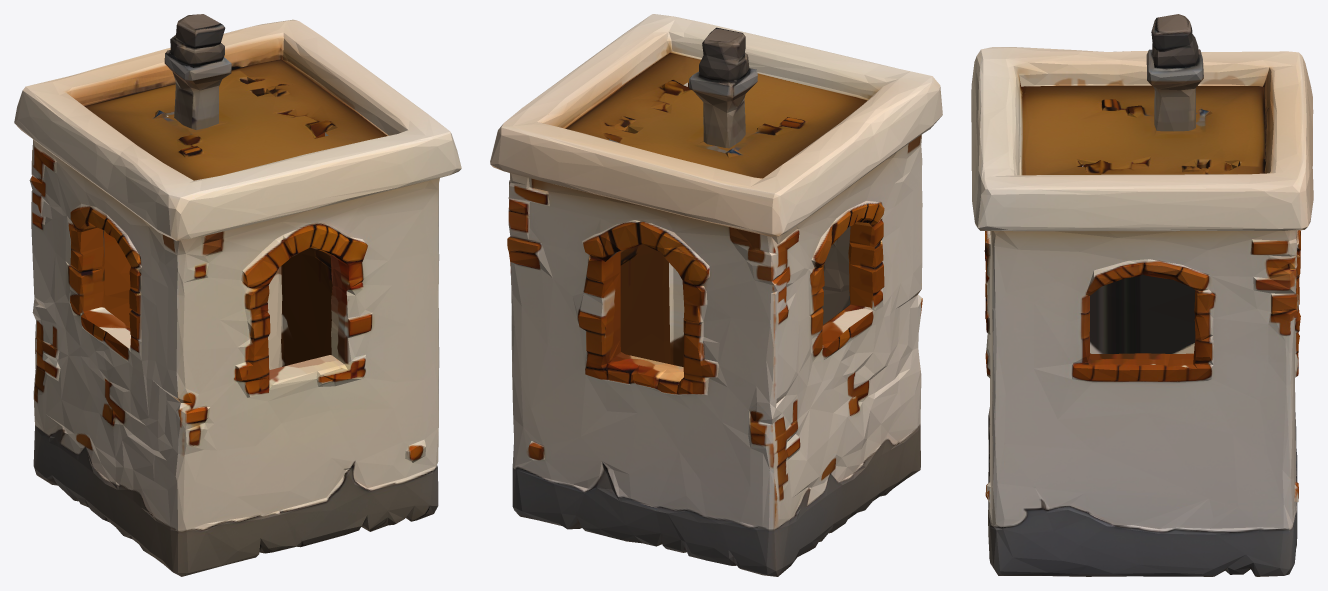
3 views of the same model, side by side, from view 1: azimuth 30°, elevation 25°; view 2: azimuth 150°, elevation 25°; view 3: azimuth 270°, elevation 25° (orthographic). The views are drawn at different scales.
Parts seen in each view (by area): view 1: 1_1234_30_5.0_384_8000.obj; view 2: 1_1234_30_5.0_384_8000.obj; view 3: 1_1234_30_5.0_384_8000.obj.
Part boxes in pixels (x1,y1,x2,y2): 1_1234_30_5.0_384_8000.obj: (14,14,461,576); 1_1234_30_5.0_384_8000.obj: (490,14,942,576); 1_1234_30_5.0_384_8000.obj: (971,14,1313,576).
Bounding box in the file's own units: 1.3 × 2 × 1.29.
Materials: 1 (1 with a texture image).
